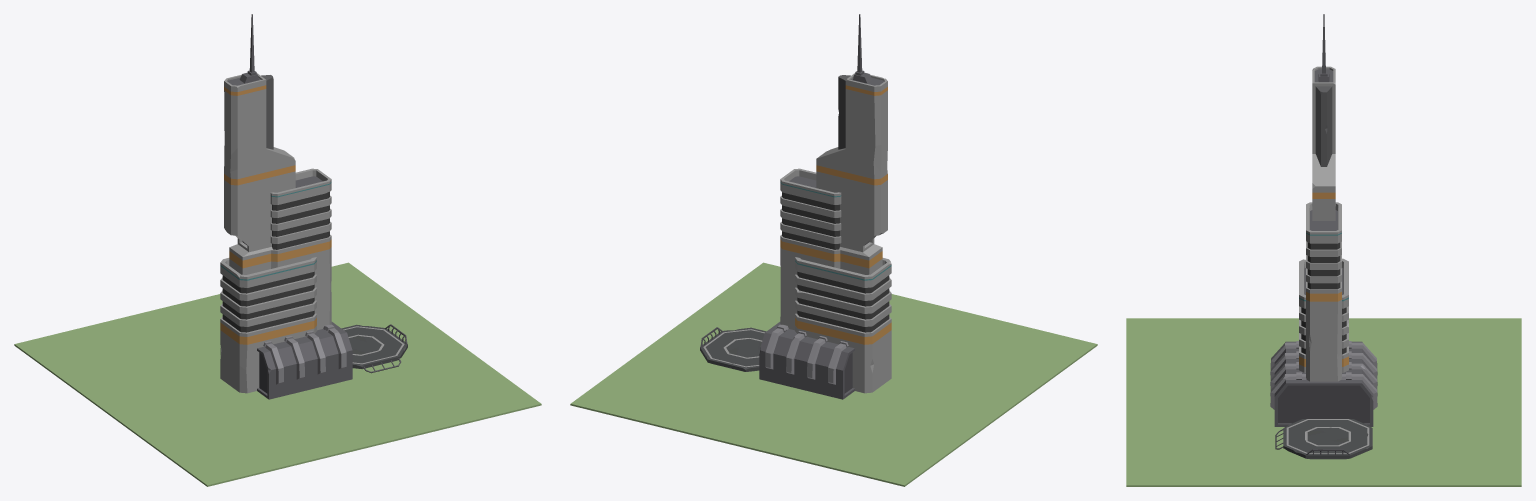
Rendered from cold-fusion-facility.glb.
3 renders of one model, left to right at view 1: azimuth 30°, elevation 25°; view 2: azimuth 150°, elevation 25°; view 3: azimuth 270°, elevation 25°, orthographic. The views are drawn at different scales.
Visible parts, largest first — view 1: Ground, ColdFusion_Main, ColdFusion_Pad; view 2: Ground, ColdFusion_Main, ColdFusion_Pad; view 3: Ground, ColdFusion_Main, ColdFusion_Pad.
Boxes of the visible parts, <box> form: Ground: <box>14,262,541,486</box>; ColdFusion_Main: <box>220,14,352,399</box>; ColdFusion_Pad: <box>341,324,407,373</box>; Ground: <box>570,262,1097,486</box>; ColdFusion_Main: <box>759,14,891,399</box>; ColdFusion_Pad: <box>700,327,766,371</box>; Ground: <box>1126,318,1521,486</box>; ColdFusion_Main: <box>1270,14,1377,426</box>; ColdFusion_Pad: <box>1275,419,1372,459</box>.
Size of the model in its own units: 32 by 33.64 by 32.
2 materials, 1 textured.
